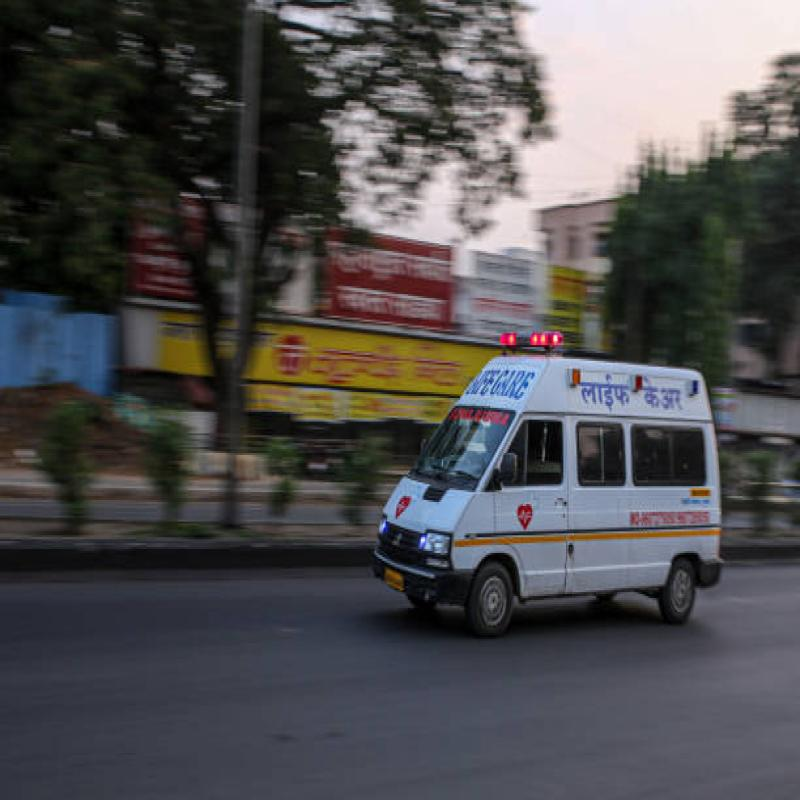ambulance: (366, 326, 745, 631)
